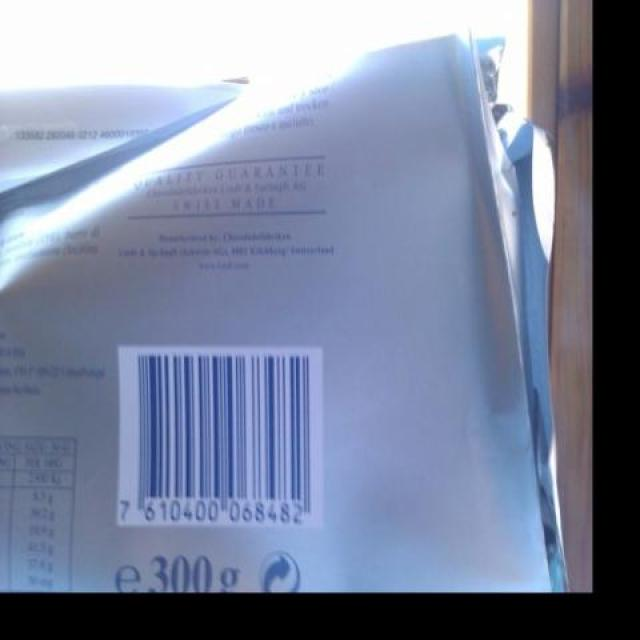Barcode: (116, 347, 324, 529)
